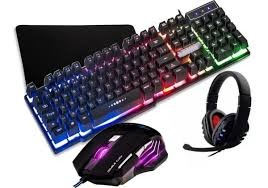keyboard: (31, 6, 254, 123)
mouse: (76, 122, 170, 188)
